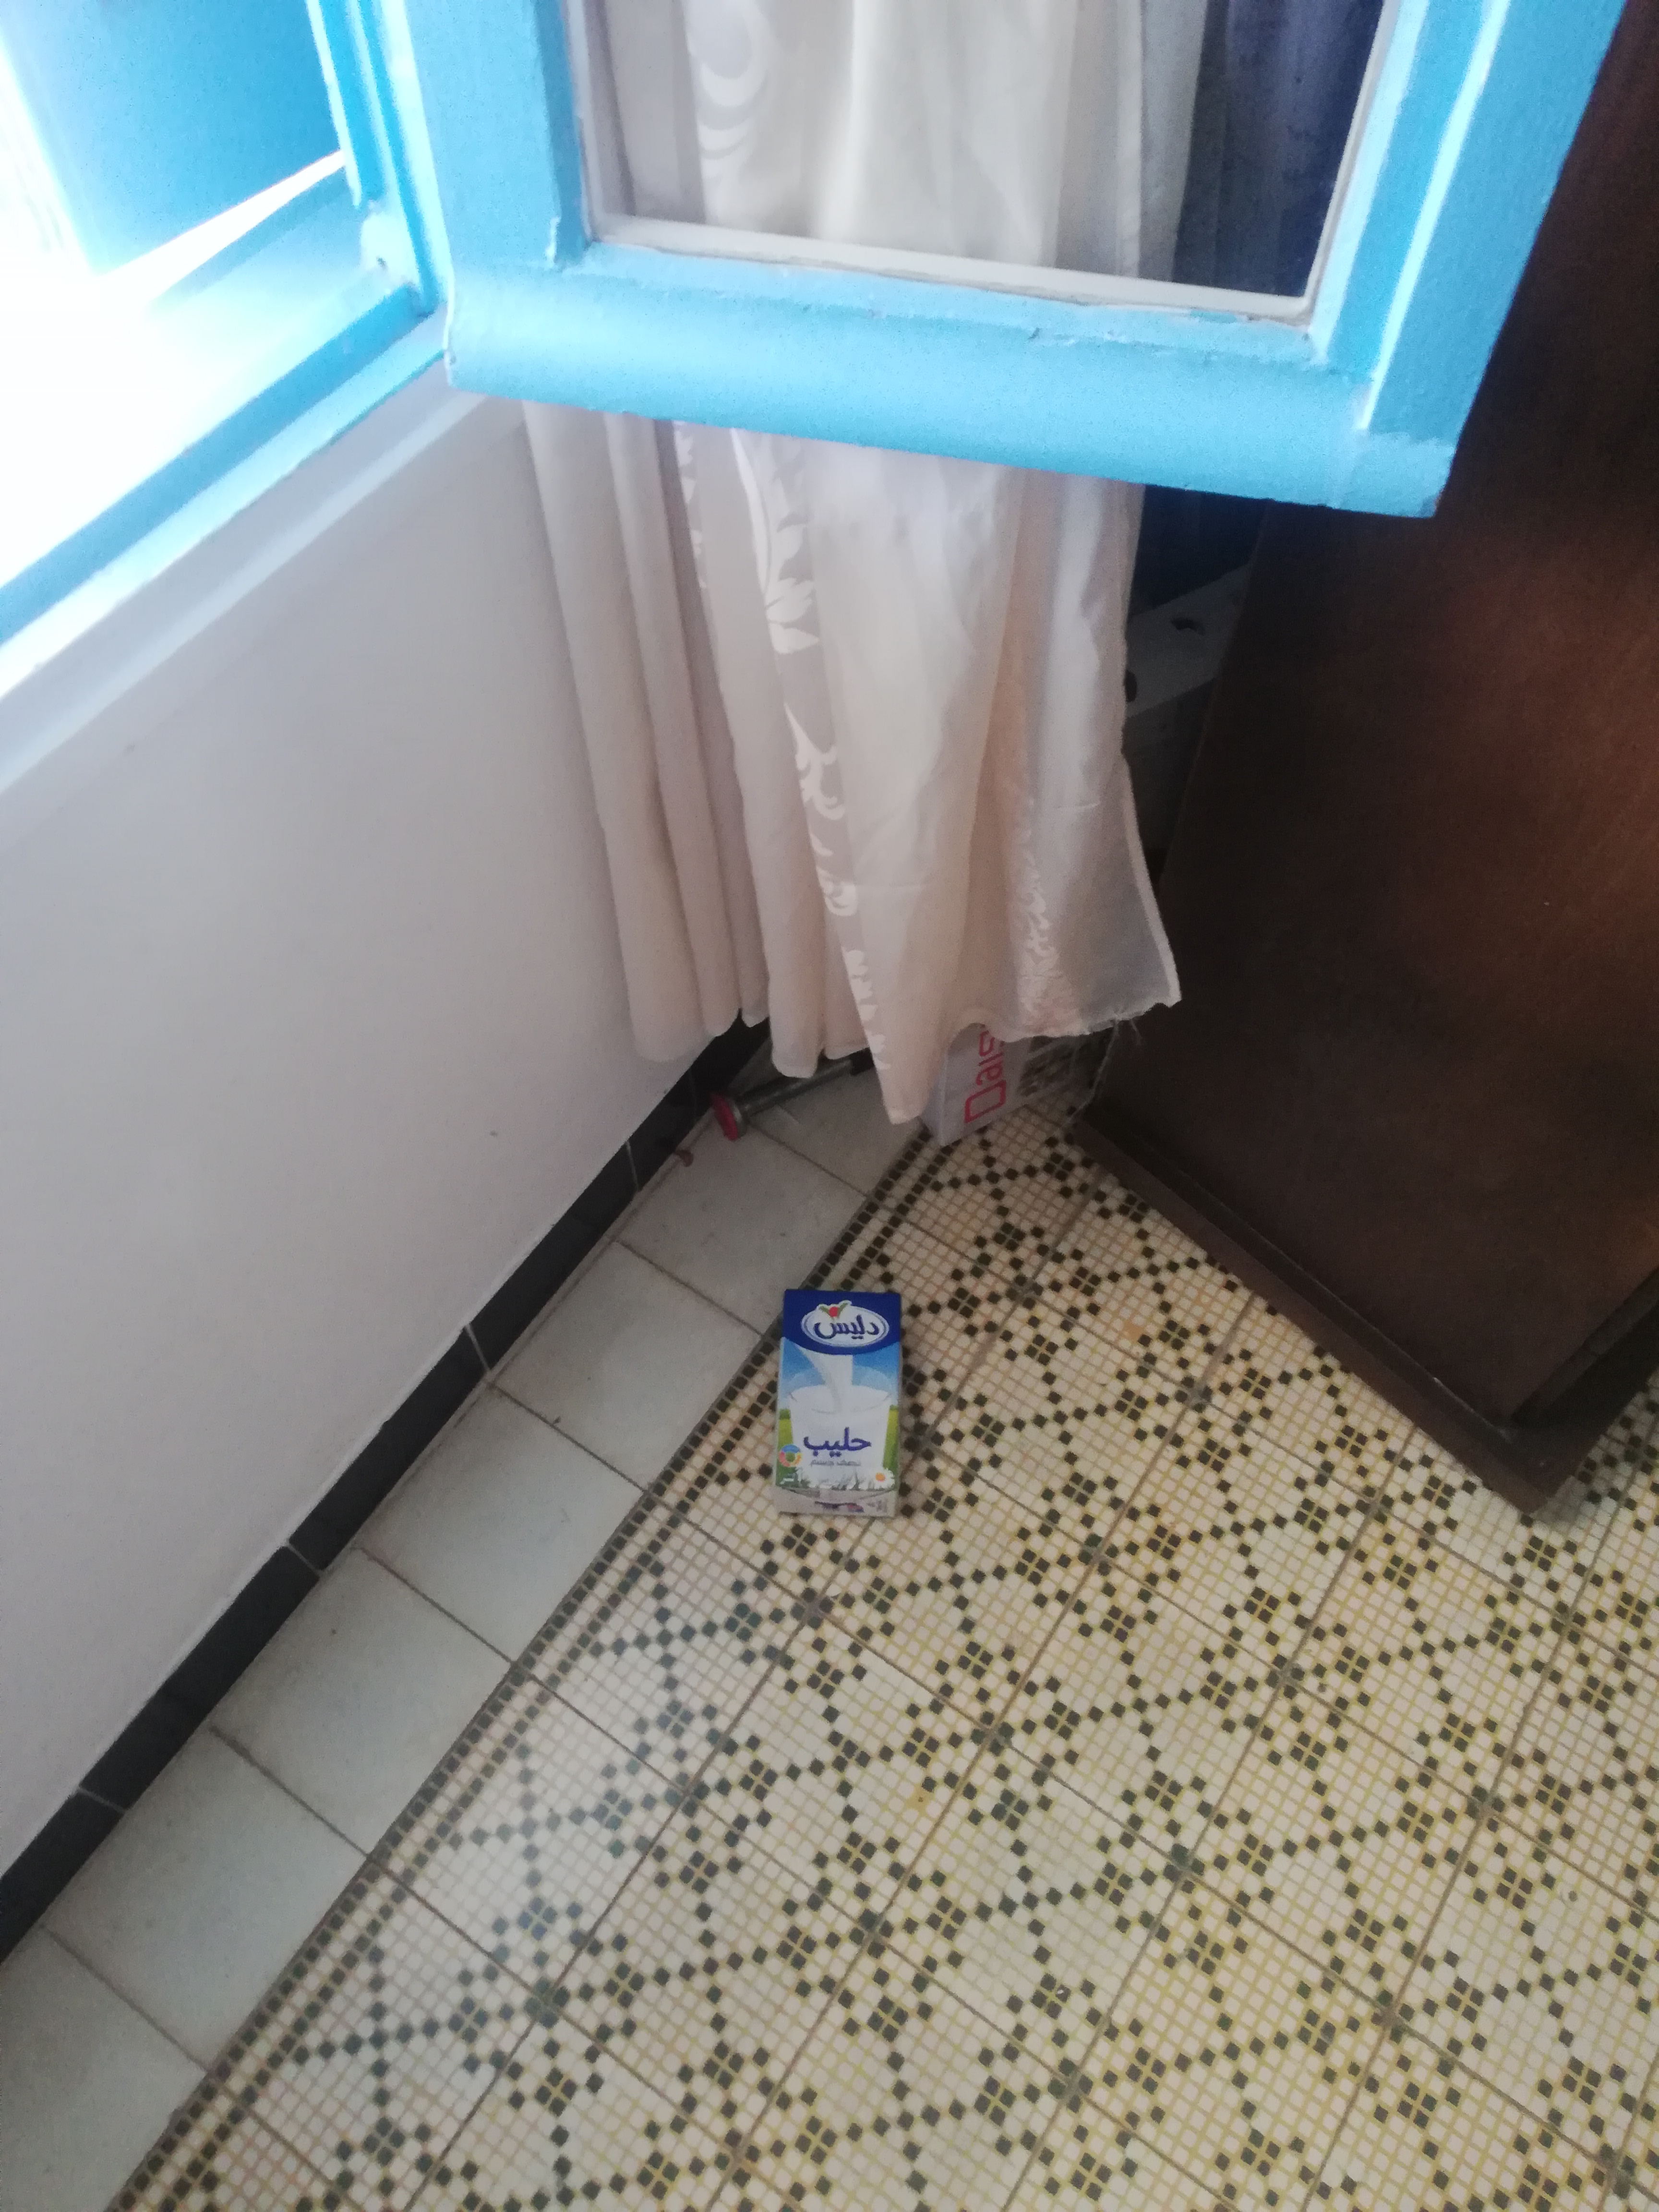Lait delice: (770, 1284, 908, 1521)
